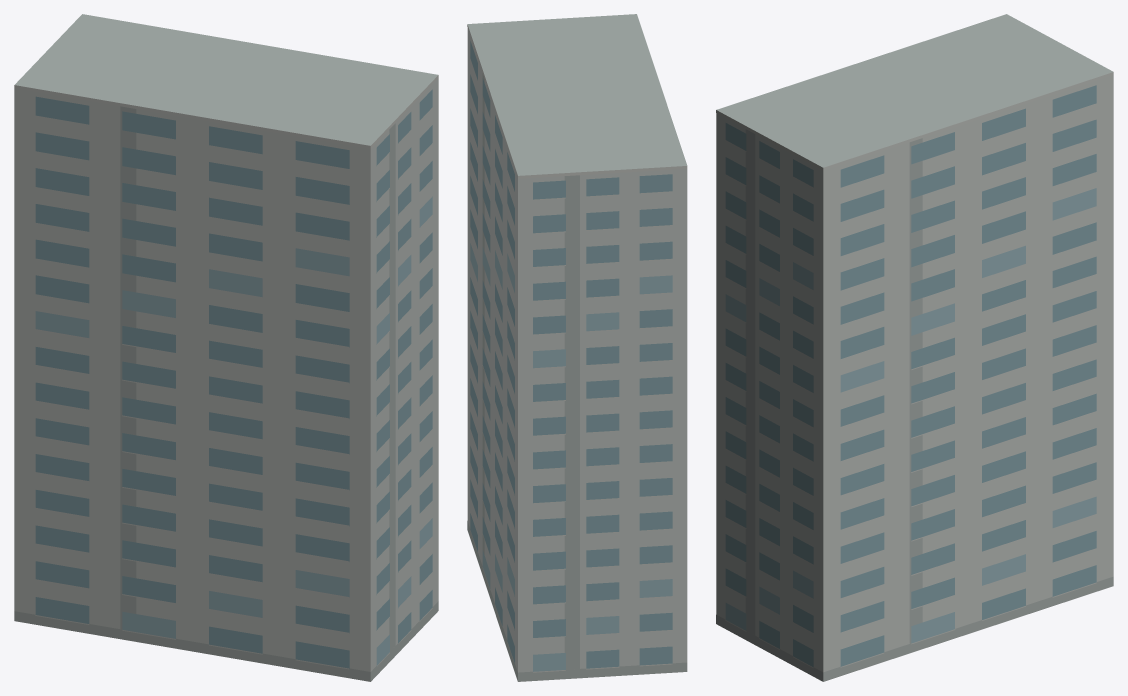
File: residential-beb6a851-61d0-4edf-beaa-2e745ebb59c4.glb
3 renders of one model, left to right at view 1: azimuth 30°, elevation 25°; view 2: azimuth 150°, elevation 25°; view 3: azimuth 270°, elevation 25°, orthographic. The views are drawn at different scales.
Parts seen in each view (by area): view 1: residential-beb6a851-61d0-4edf-beaa-2e745ebb59c4.tmp; view 2: residential-beb6a851-61d0-4edf-beaa-2e745ebb59c4.tmp; view 3: residential-beb6a851-61d0-4edf-beaa-2e745ebb59c4.tmp.
Part boxes in pixels (box(x1,y1,x2,y2)): residential-beb6a851-61d0-4edf-beaa-2e745ebb59c4.tmp: box(14, 14, 438, 681); residential-beb6a851-61d0-4edf-beaa-2e745ebb59c4.tmp: box(467, 14, 687, 681); residential-beb6a851-61d0-4edf-beaa-2e745ebb59c4.tmp: box(716, 14, 1113, 681).
Size of the model in its own units: 26.31 by 41 by 28.74.
